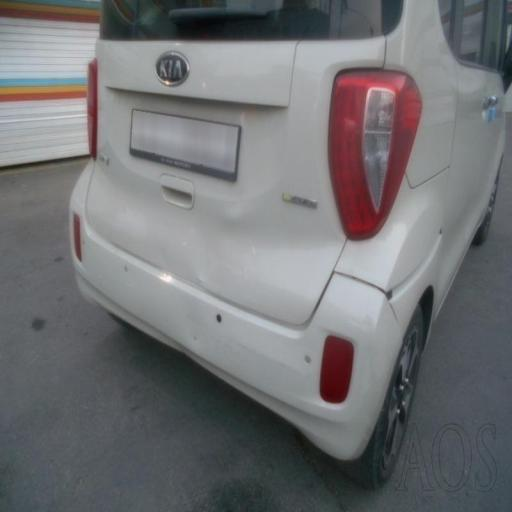dent: (107, 110, 304, 356)
